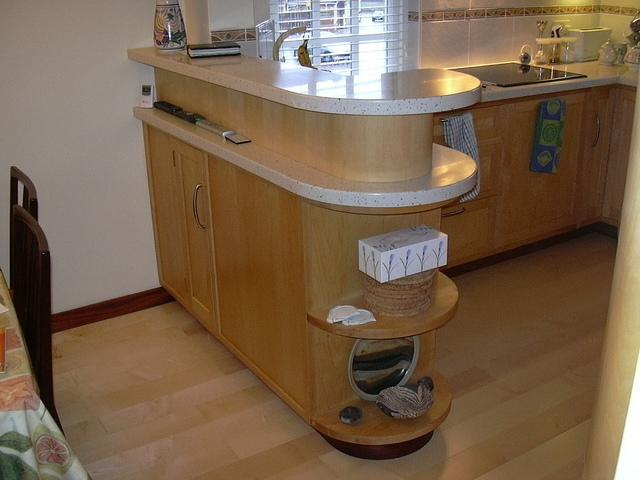banana: (298, 40, 313, 68), (305, 40, 312, 65)
